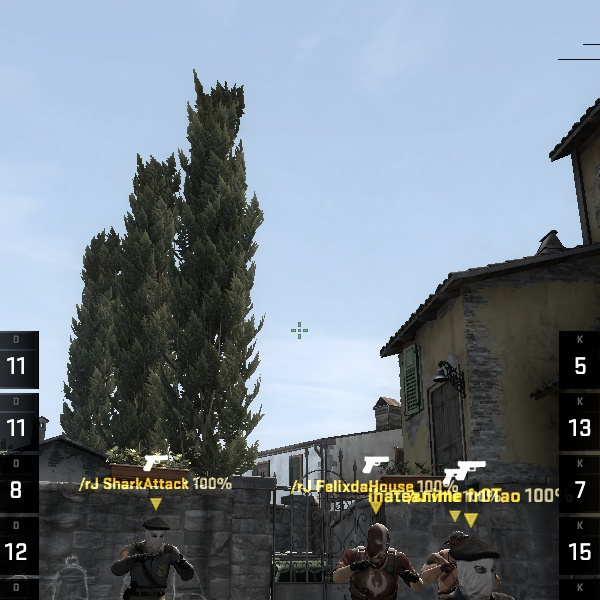t_body: (75, 520, 223, 600), (331, 518, 420, 599)
t_head: (356, 519, 397, 562)
